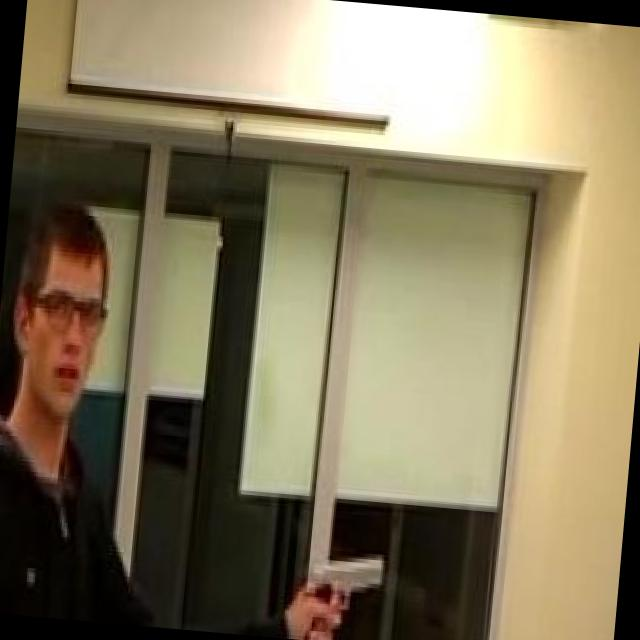Guns: (289, 539, 396, 622)
